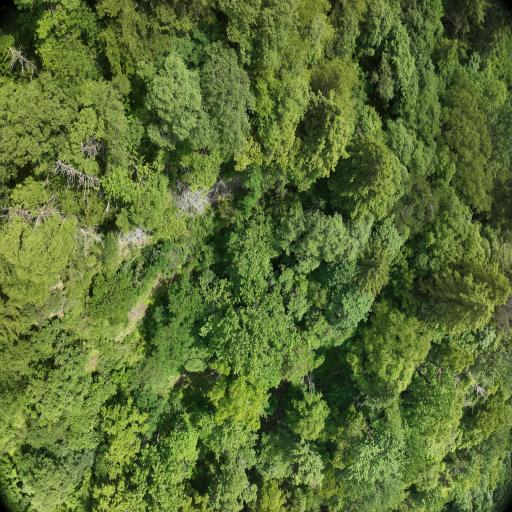dead-tree: (56, 145, 110, 196), (168, 180, 219, 221), (6, 40, 42, 75)
